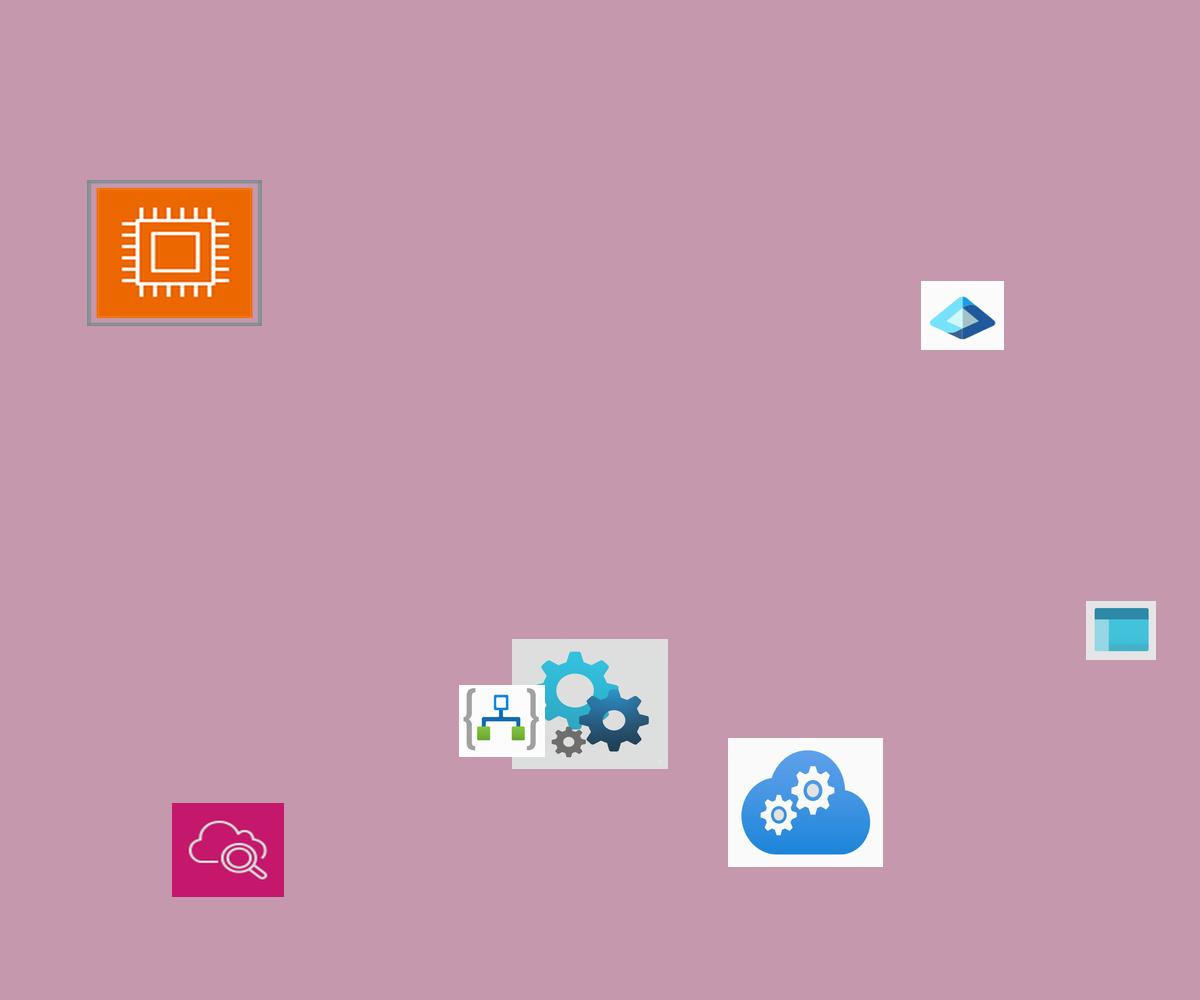AWS-Category_Compute: (87, 180, 262, 326)
AWS-CloudWatch: (172, 803, 284, 897)
Azure_api: (512, 639, 668, 769)
Azure_cloud_services: (728, 738, 883, 867)
Azure_integration-204-Logic-Apps: (459, 685, 545, 757)
Azure_management-portal: (1086, 601, 1156, 660)
Azure_microsoft_entra: (921, 281, 1004, 350)
